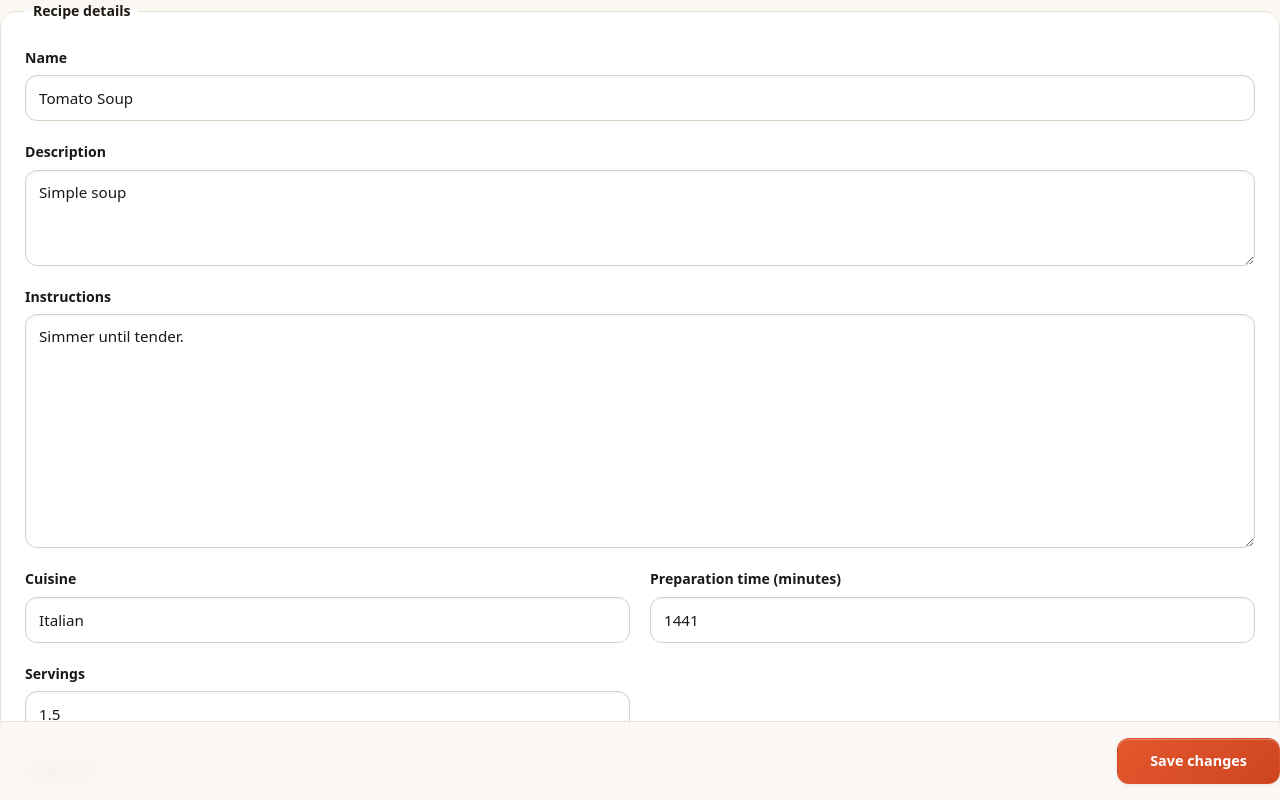
Scenario: RecipeForm › validates quantity, preparation time, and servings
This screenshot has width=1280, height=800.
Click the button "Save changes" at x=1199, y=761, box [1117,738,1279,784]
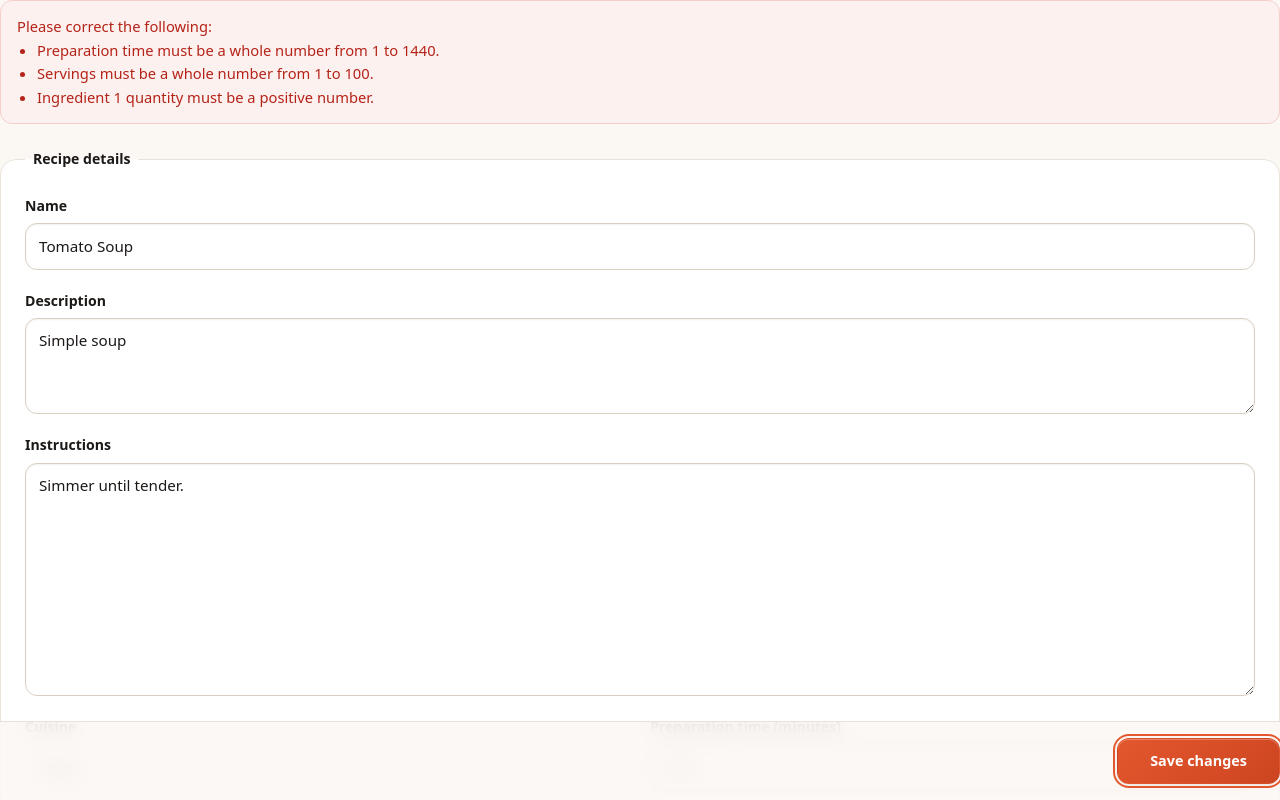
Expected: the message shows "Preparation time must be a whole number from 1 to 1440.", [37,40,440,60]
Expected: the message shows "Servings must be a whole number from 1 to 100.", [37,63,374,83]
Expected: the message shows "Ingredient 1 quantity must be a positive number.", [37,87,374,107]
